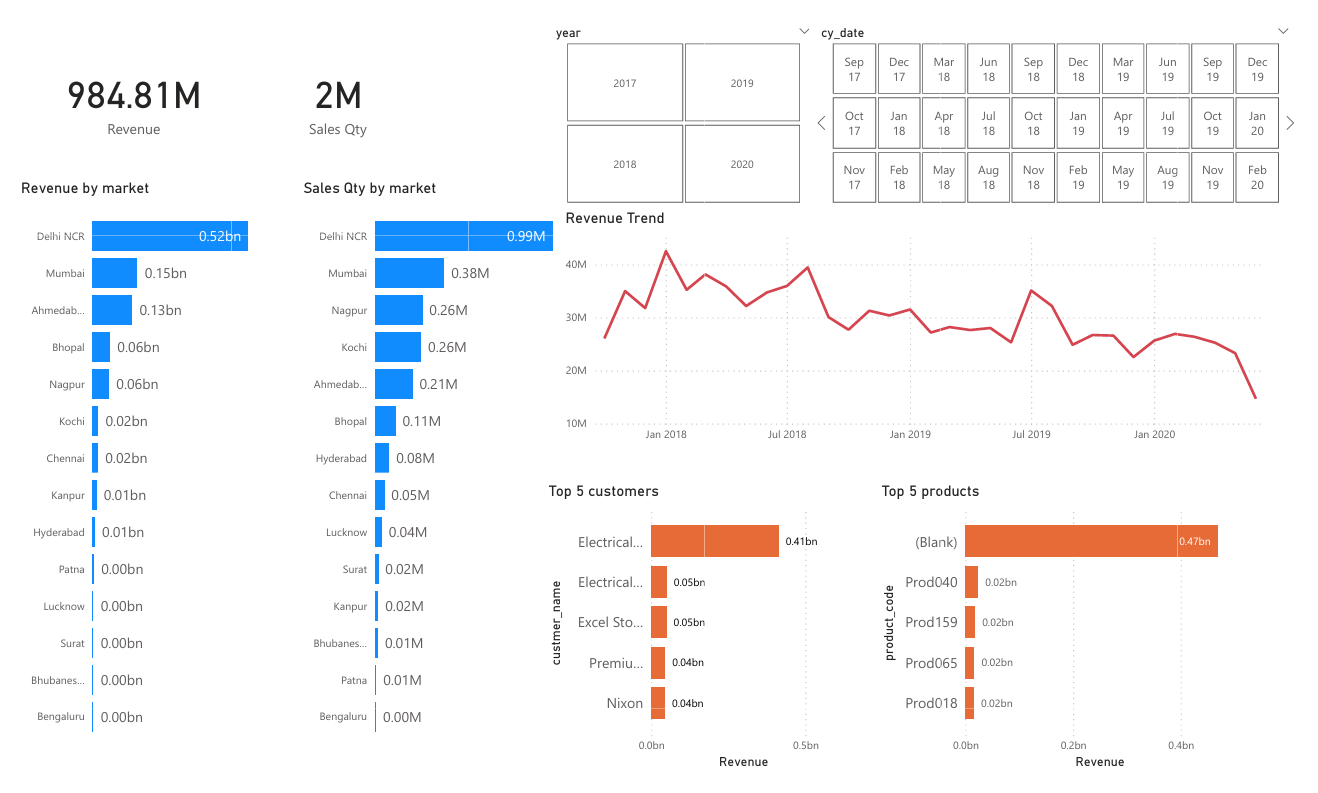

This screenshot's page, from the dashboard's own definition file:
{"tool":"powerbi","page":{"name":"Page 1","canvas":[1450,850],"ordinal":0},"visuals":[{"type":"card","fields":{"Values":["Base measures.Revenue"]},"box":[19.1,0,227.3,177.6],"z":0},{"type":"card","fields":{"Values":["Base measures.Sales Qty"]},"box":[259.8,0,206.3,177.6],"z":1000},{"type":"barChart","title":"Revenue by market","fields":{"Y":["Base measures.Revenue"],"Category":["sales markets.markets_name"]},"box":[0,177.6,294.2,647.5],"z":2000},{"type":"barChart","title":"Sales Qty by market","fields":{"Y":["Base measures.Sales Qty"],"Category":["sales markets.markets_name"]},"box":[319,177.6,294.2,647.5],"z":3000},{"type":"slicer","fields":{"Values":["sales date.year"]},"box":[596,0,313.3,212],"z":4000},{"type":"slicer","fields":{"Values":["sales date.cy_date"]},"box":[895.8,0,553.9,212],"z":5000},{"type":"barChart","title":"Top 5 customers","fields":{"Y":["Base measures.Revenue"],"Category":["sales customers.custmer_name"]},"box":[596,519.6,349.6,330.4],"z":6000},{"type":"barChart","title":"Top 5 products","fields":{"Y":["Base measures.Revenue"],"Category":["sales products.product_code"]},"box":[972.2,519.6,424,330.4],"z":6001},{"type":"lineChart","title":"Revenue Trend","fields":{"Category":["sales date.cy_date.Variation.Date Hierarchy.Year","sales date.cy_date.Variation.Date Hierarchy.Quarter","sales date.cy_date.Variation.Date Hierarchy.Month","sales date.cy_date.Variation.Date Hierarchy.Day"],"Y":["Base measures.Revenue"]},"box":[615.1,212,813.7,273.1],"z":6002}]}

Visuals, with their boxes in screenshot pixels (x1, y1, x2, y2), scaled from the page's 1450x850 canvas onto the 1318x793 screenshot:
card - Base measures.Revenue: BBox(17, 0, 224, 166)
card - Base measures.Sales Qty: BBox(236, 0, 424, 166)
"Revenue by market" barChart: BBox(0, 166, 267, 770)
"Sales Qty by market" barChart: BBox(290, 166, 557, 770)
slicer - sales date.year: BBox(542, 0, 827, 198)
slicer - sales date.cy_date: BBox(814, 0, 1317, 198)
"Top 5 customers" barChart: BBox(542, 485, 860, 792)
"Top 5 products" barChart: BBox(884, 485, 1269, 792)
"Revenue Trend" lineChart: BBox(559, 198, 1299, 453)
